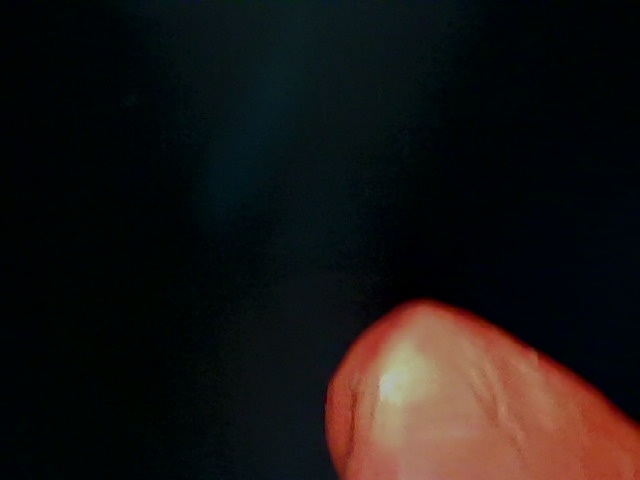YHLJ: (401, 371, 476, 427)
